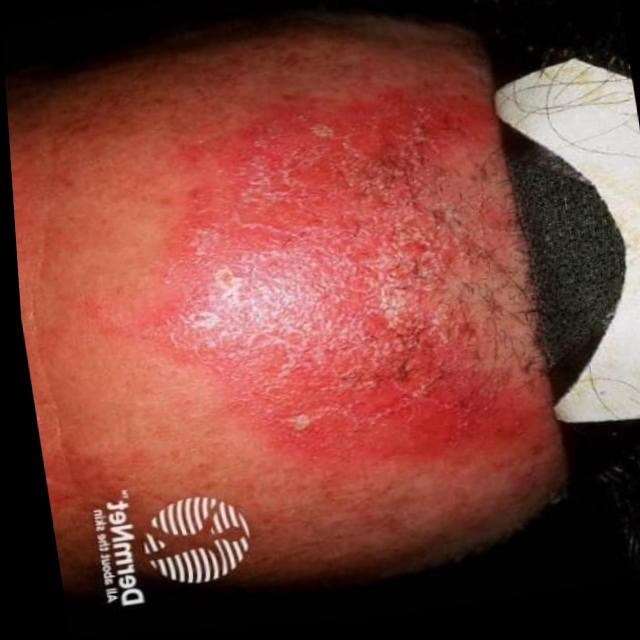Eczema: (114, 57, 571, 512)
